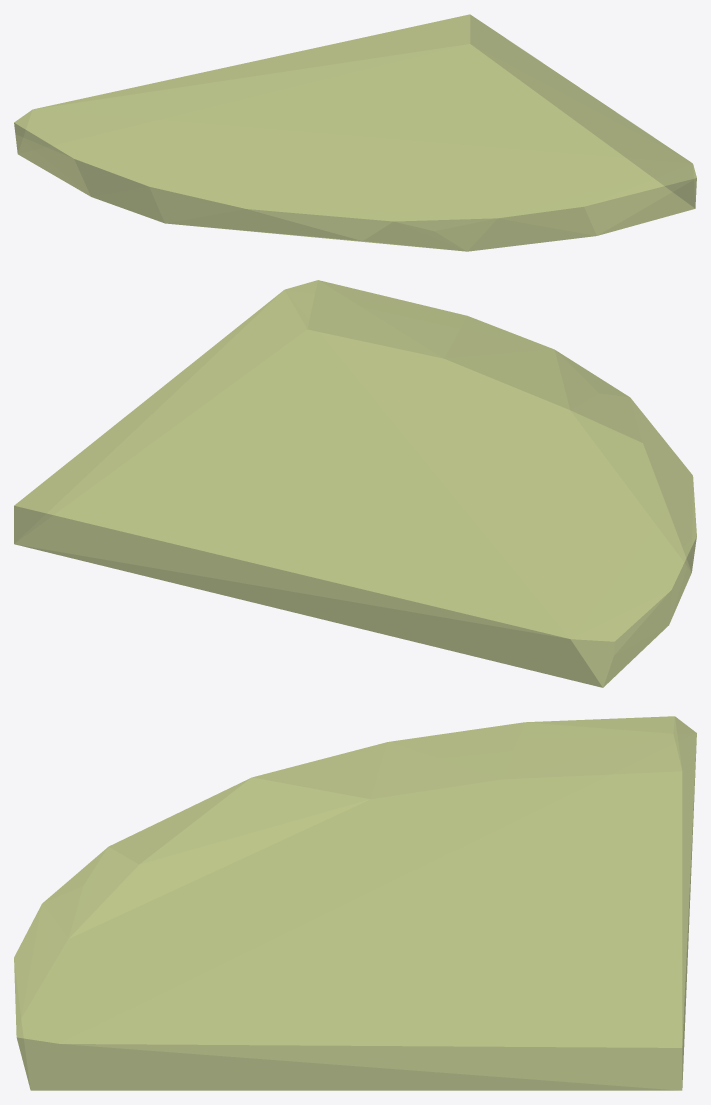
3 views of the same model, one above another, from view 1: azimuth 30°, elevation 25°; view 2: azimuth 150°, elevation 25°; view 3: azimuth 270°, elevation 25° (orthographic). The views are drawn at different scales.
Parts seen in each view (by area): view 1: Shape_IndexedFaceSet.002_Shape_IndexedFaceSet.10827; view 2: Shape_IndexedFaceSet.002_Shape_IndexedFaceSet.10827; view 3: Shape_IndexedFaceSet.002_Shape_IndexedFaceSet.10827.
Boxes of the visible parts, left/top/right/bottom form: Shape_IndexedFaceSet.002_Shape_IndexedFaceSet.10827: left=14, top=14, right=696, bottom=251; Shape_IndexedFaceSet.002_Shape_IndexedFaceSet.10827: left=14, top=280, right=696, bottom=687; Shape_IndexedFaceSet.002_Shape_IndexedFaceSet.10827: left=14, top=716, right=696, bottom=1090.
Size of the model in its own units: 0.7839 by 0.0583 by 0.6875.
